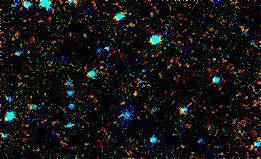star: (106, 86, 136, 116)
